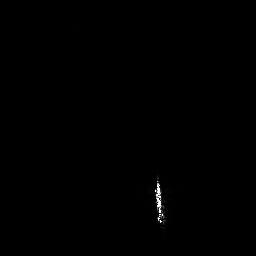ship: (152, 174, 167, 228)
